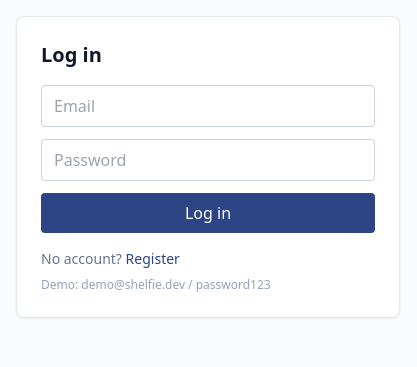
it: LoginPage › shows a generic error message when login fails
Type "reader@example.com" into the field with placeholder "Email" at (208, 106), box [41, 85, 375, 127]
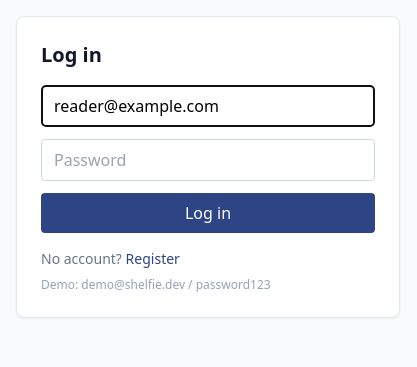
Type "wrongpassword" into the password field with placeholder "Password" at (208, 160), box [41, 139, 375, 181]
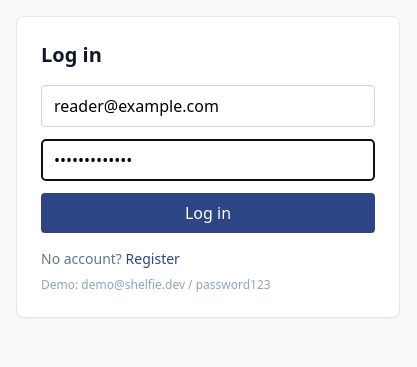
Click the button "Log in" at (208, 213), box [41, 193, 375, 233]
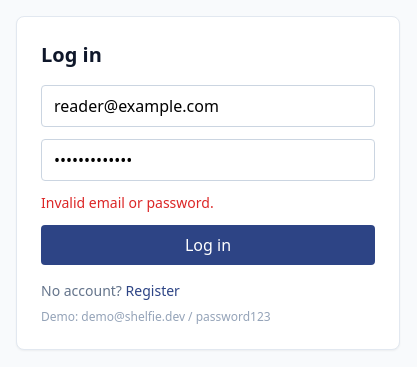
Result: the text "Invalid email or password." is shown at [41, 193, 214, 212]
